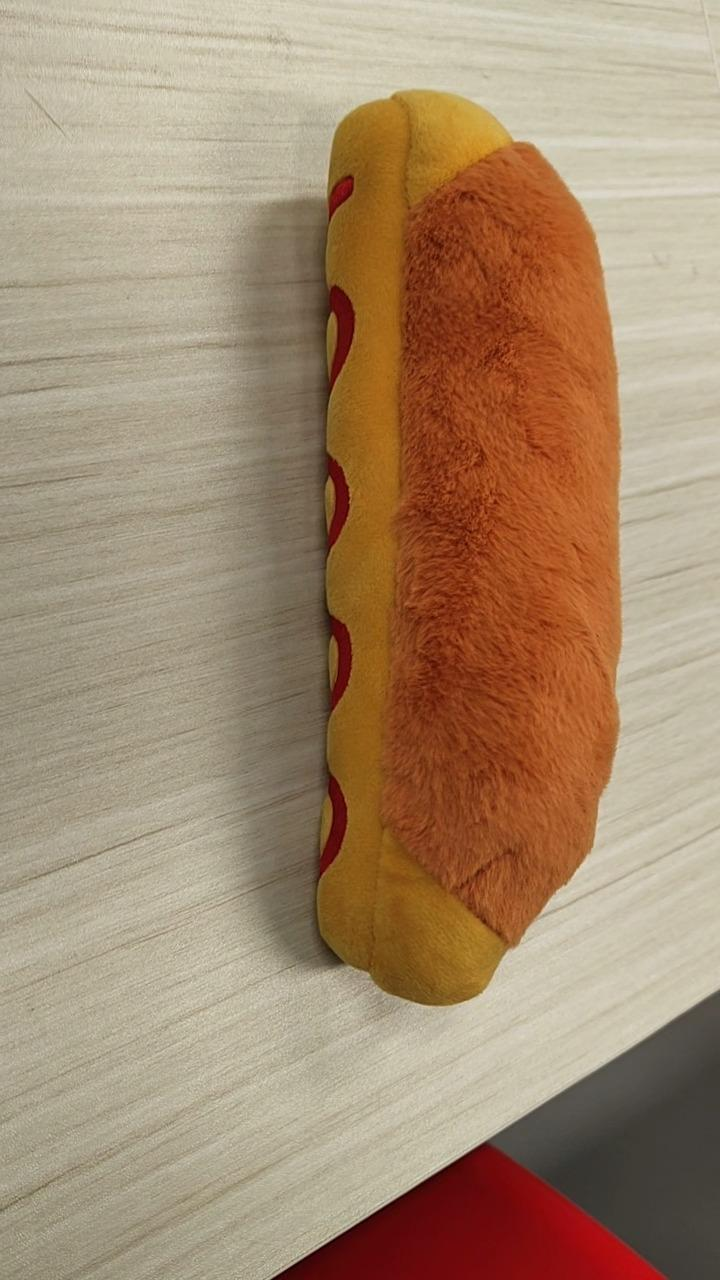hotdog: (313, 87, 623, 1006)
